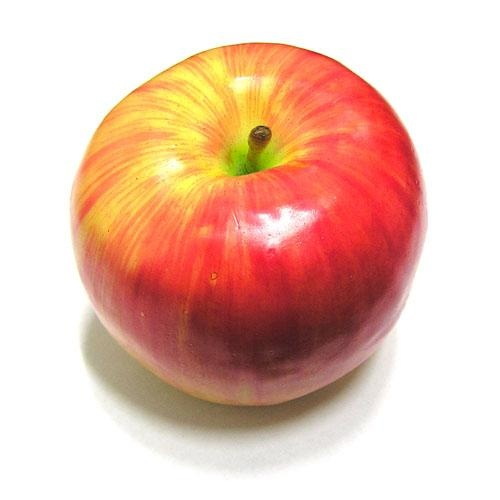apple: (79, 43, 418, 411)
